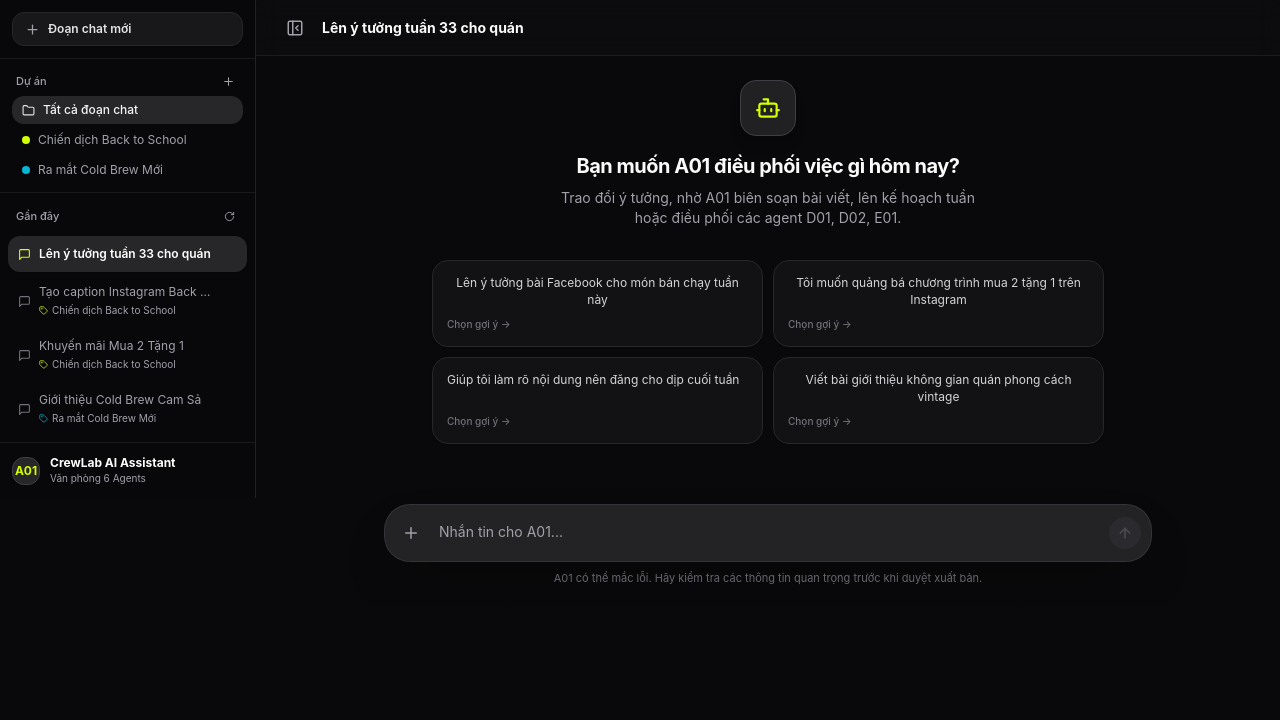
A01 controlled errors › renders provider, provider request ID, error code and support reference
Type "Viết một bài cold brew" into the text box labelled "Nhắn tin cho A01". click: x=768, y=533
box: [435,515,1101,551]
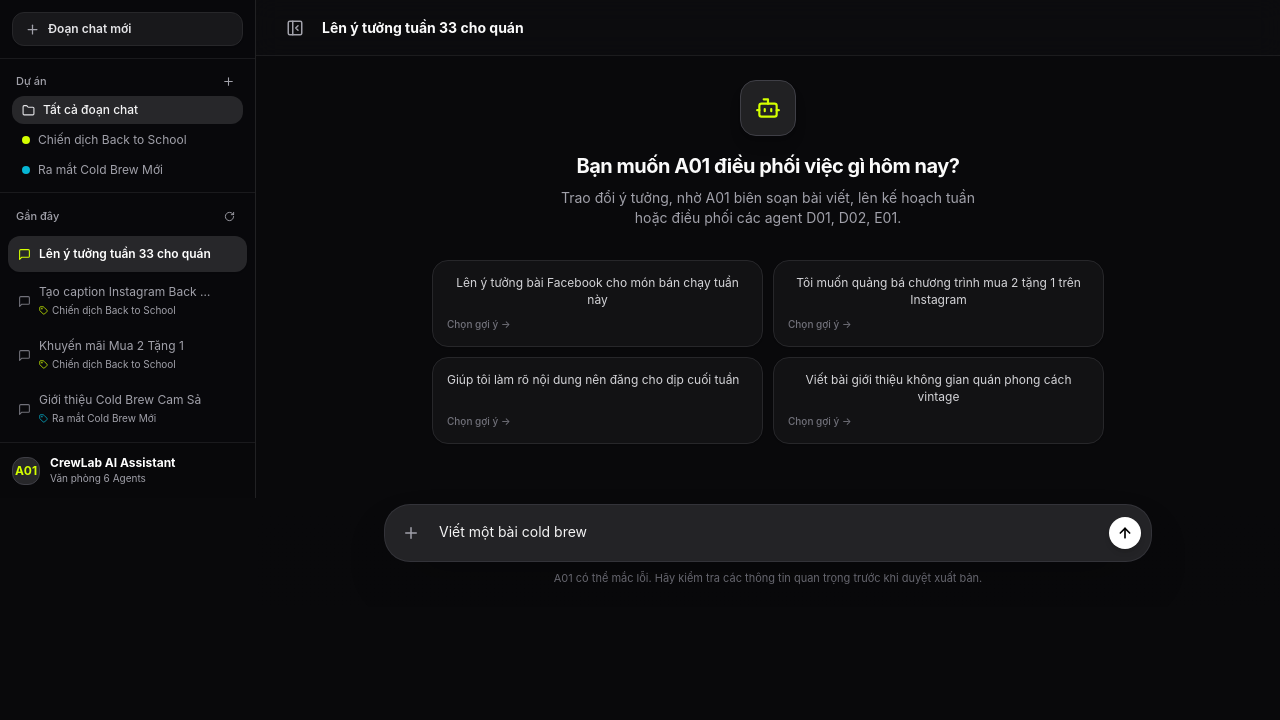
Submit the form named "Nhắn tin cho A01", box [384,504,1152,586]
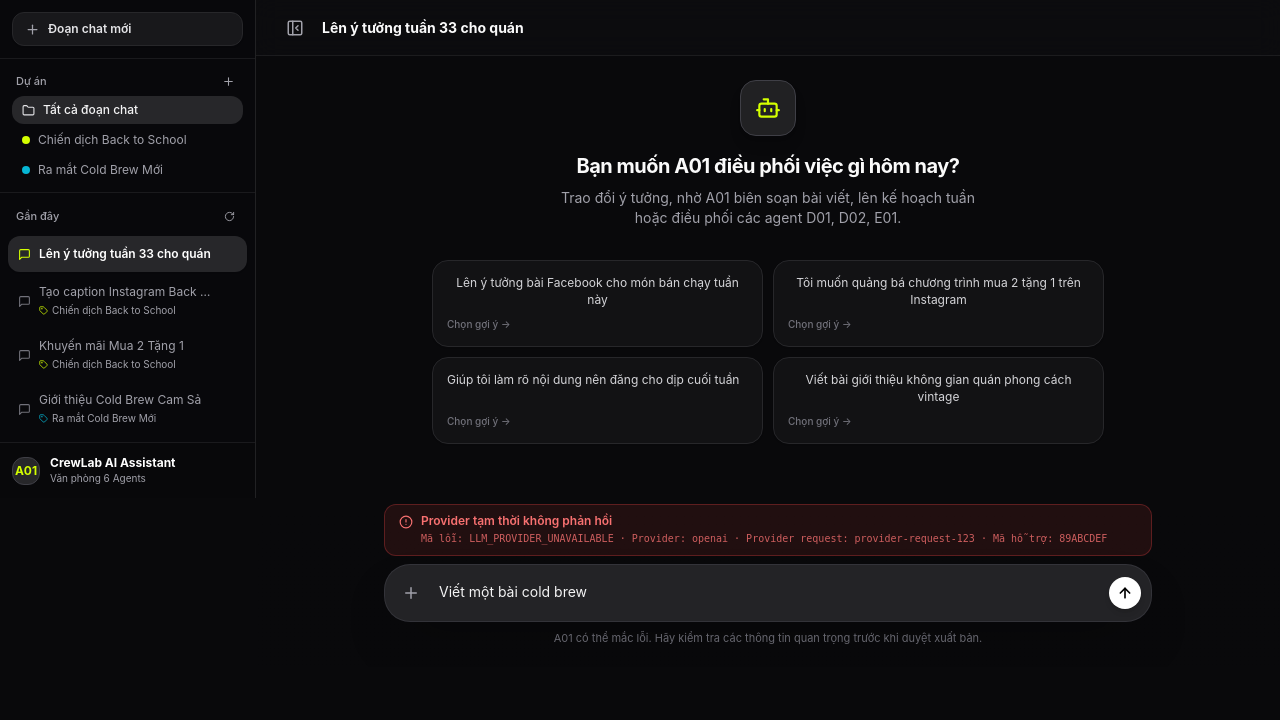
Expected: the message shows "Provider tạm thời không phản hồi", [421,513,612,528]
Expected: the message shows "LLM_PROVIDER_UNAVAILABLE", [421,533,614,544]
Expected: the message shows "Provider: openai", [614,533,728,544]
